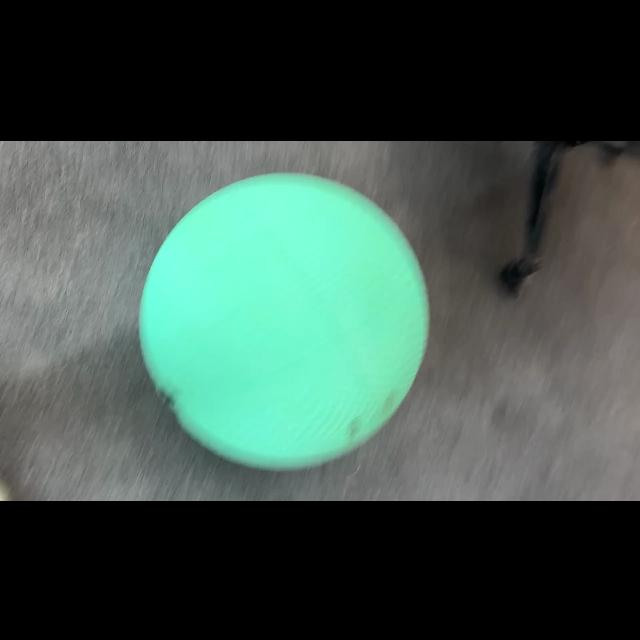ALGAE: (138, 171, 432, 471)
